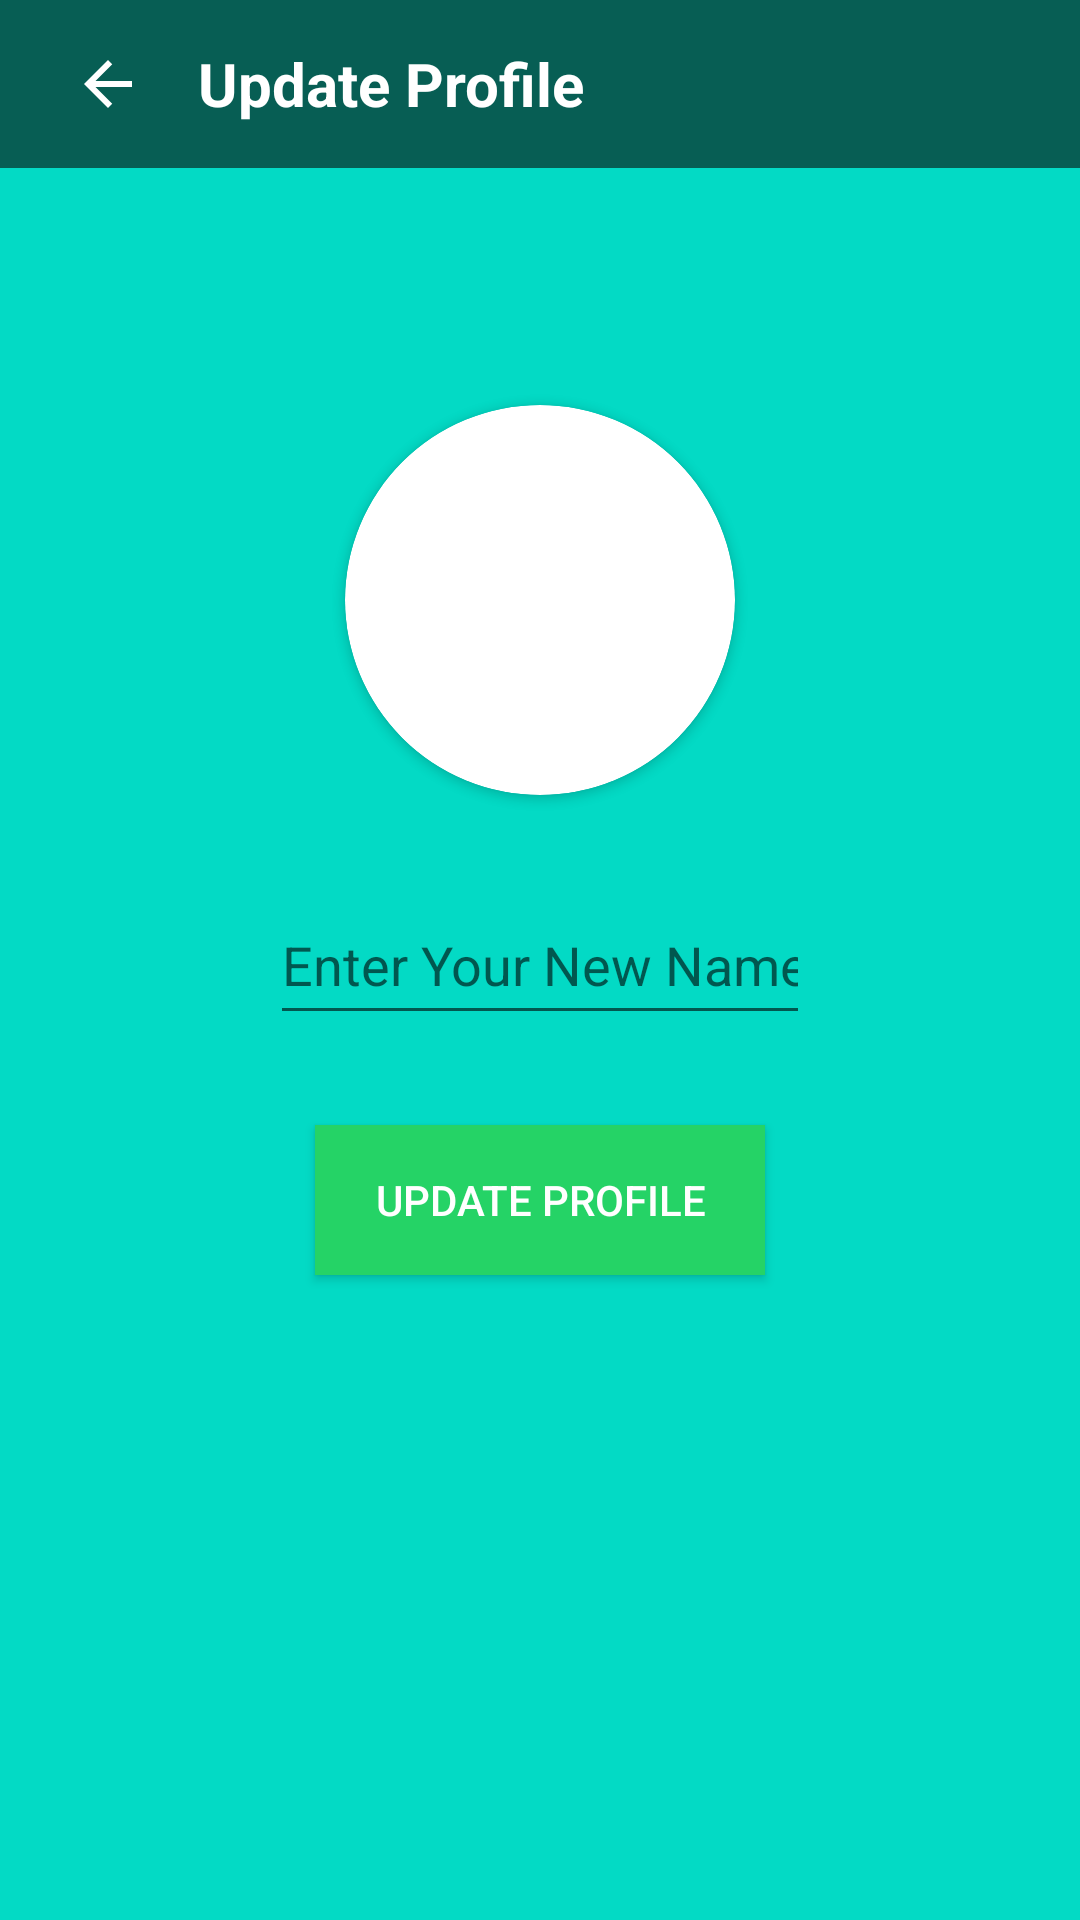

Icons on this 1080 x 1920 Android screen, each with the point to tap as [x,y]:
arrow back: [108,84]
